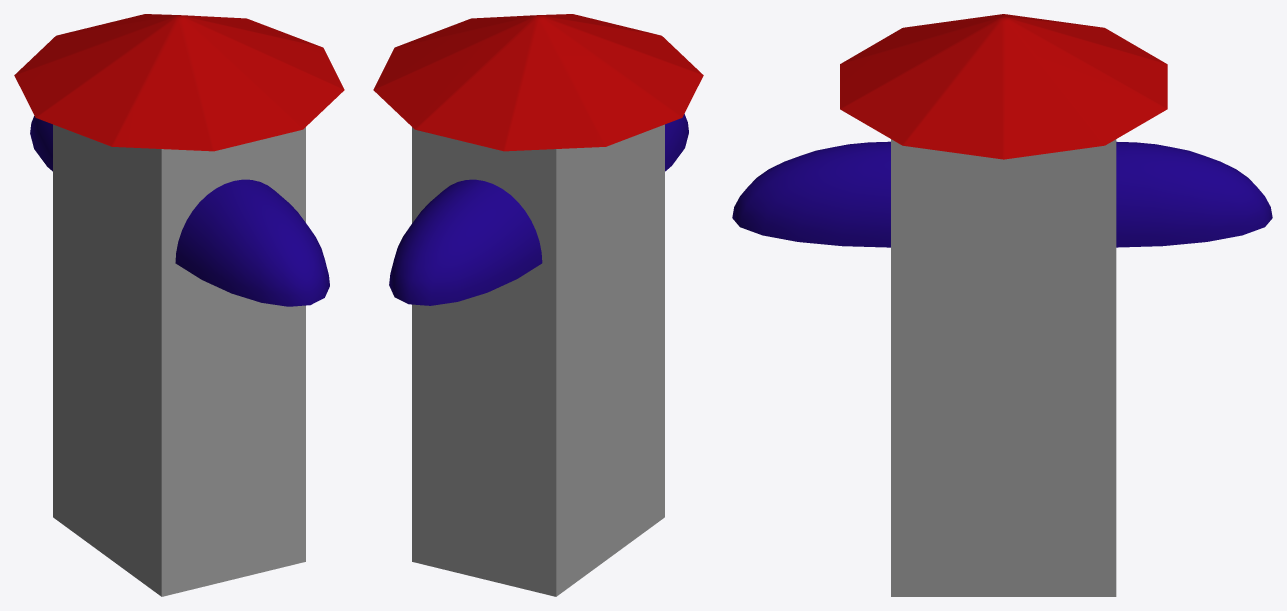
File: enemy1.fbx
3 renders of one model, left to right at view 1: azimuth 30°, elevation 25°; view 2: azimuth 150°, elevation 25°; view 3: azimuth 270°, elevation 25°, orthographic. The views are drawn at different scales.
Visible parts, largest first — view 1: pCube1, pCone1, pSphere1, pSphere2; view 2: pCube1, pCone1, pSphere2, pSphere1; view 3: pCube1, pCone1, pSphere1, pSphere2.
Boxes of the visible parts, x1,y1,x2,y2 form: pCube1: (53,124,305,596); pCone1: (14,14,344,151); pSphere1: (175,179,329,306); pSphere2: (30,116,52,171); pCube1: (412,124,664,596); pCone1: (373,14,703,151); pSphere2: (389,179,542,305); pSphere1: (665,114,688,171); pCube1: (891,139,1116,596); pCone1: (840,14,1167,159); pSphere1: (732,141,890,247); pSphere2: (1116,141,1272,247).
Size of the model in its own units: 2 by 3.47 by 3.13.
